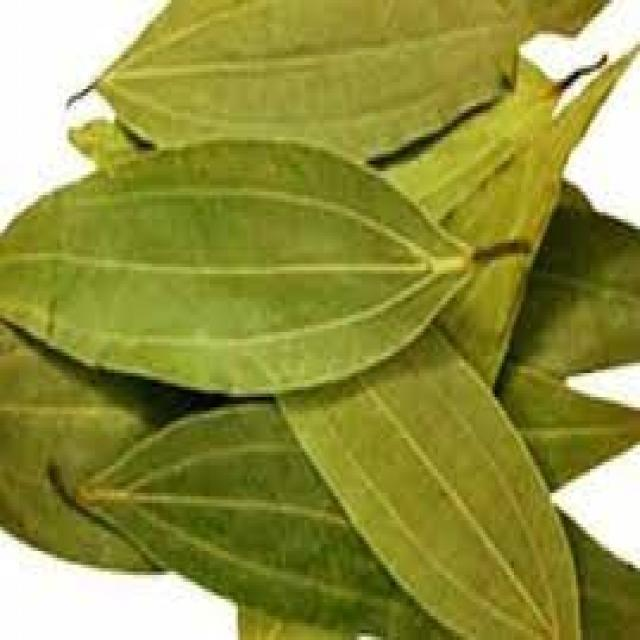Cinnamon: (28, 90, 474, 408), (277, 248, 617, 640), (81, 0, 596, 161), (73, 417, 473, 624)
